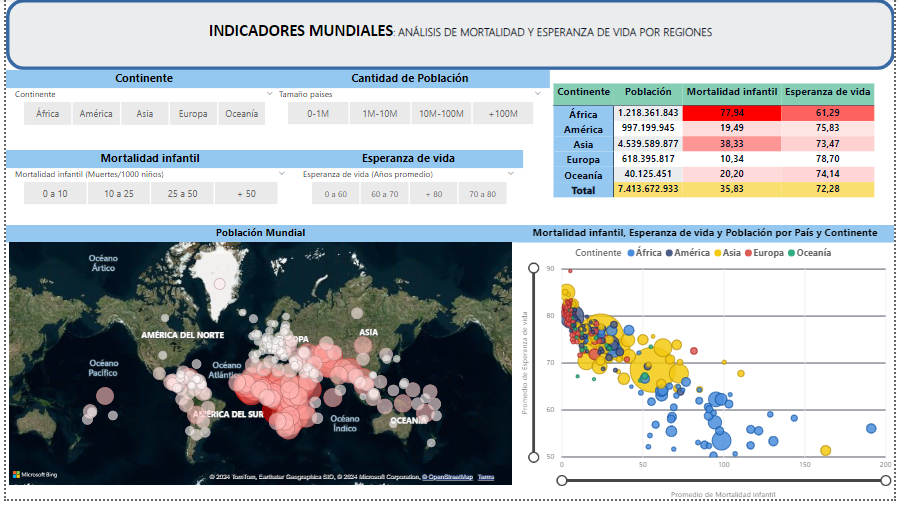

The dashboard page shown, as its layout file describes it:
{"tool":"powerbi","page":{"name":"Indicadores Mundiales","canvas":[1280,720],"ordinal":1},"visuals":[{"type":"slicer","title":"Cantidad de Población","fields":{"Values":["Population.Tamaño paises"]},"box":[380.2,102.2,403.2,85],"z":0},{"type":"slicer","title":"Continente","fields":{"Values":["Paises.Continente"]},"box":[0,102.2,397.4,86.4],"z":1000},{"type":"map","title":"Población Mundial ","fields":{"Category":["Paises.Pais"],"Size":["Avg(Mortalidad infantil.Mortalidad infantil)"]},"box":[0,325.4,733,378.7],"z":2000},{"type":"pivotTable","fields":{"Rows":["Paises.Continente","Paises.Pais"],"Values":["Sum(Population.Población)","Avg(Mortalidad infantil.Mortalidad infantil)","Avg(Esperanza de vida.Esperanza de vida)"]},"box":[783.4,116.6,496.8,208.8],"z":3000},{"type":"slicer","title":"Mortalidad infantil ","fields":{"Values":["Mortalidad infantil.Mortalidad infantil (Muertes/1000 niños)"]},"box":[0,217.4,414.7,85],"z":4000},{"type":"shape","box":[0,0,1280.2,102.2],"z":4500},{"type":"slicer","title":"Esperanza de vida","fields":{"Values":["Esperanza de vida.Esperanza de vida (Años promedio)"]},"box":[414.7,217.4,329.8,85],"z":5000},{"type":"scatterChart","title":"Mortalidad infantil, Esperanza de vida y Población por País y Continente","fields":{"X":["Avg(Mortalidad infantil.Mortalidad infantil)"],"Y":["Avg(Esperanza de vida.Esperanza de vida)"],"Category":["Paises.Pais"],"Series":["Paises.Continente"],"Size":["Sum(Population.Población)"]},"box":[733,325.4,547.2,394.6],"z":7000},{"type":"textbox","box":[250.6,25.9,807.8,51.8],"z":8001}]}

Visuals, with their boxes in screenshot pixels (x1, y1, x2, y2), scaled from the page's 1280x720 canvas onto the 898x505 screenshot:
"Cantidad de Población" slicer: x1=267 y1=72 x2=550 y2=131
"Continente" slicer: x1=0 y1=72 x2=279 y2=132
"Población Mundial " map: x1=0 y1=228 x2=514 y2=494
pivotTable - Paises.Continente x Paises.Pais: x1=550 y1=82 x2=897 y2=228
"Mortalidad infantil " slicer: x1=0 y1=152 x2=291 y2=212
shape: x1=0 y1=0 x2=897 y2=72
"Esperanza de vida" slicer: x1=291 y1=152 x2=522 y2=212
"Mortalidad infantil, Esperanza de vida y Población por País y Continente" scatterChart: x1=514 y1=228 x2=897 y2=504
textbox: x1=176 y1=18 x2=743 y2=54
